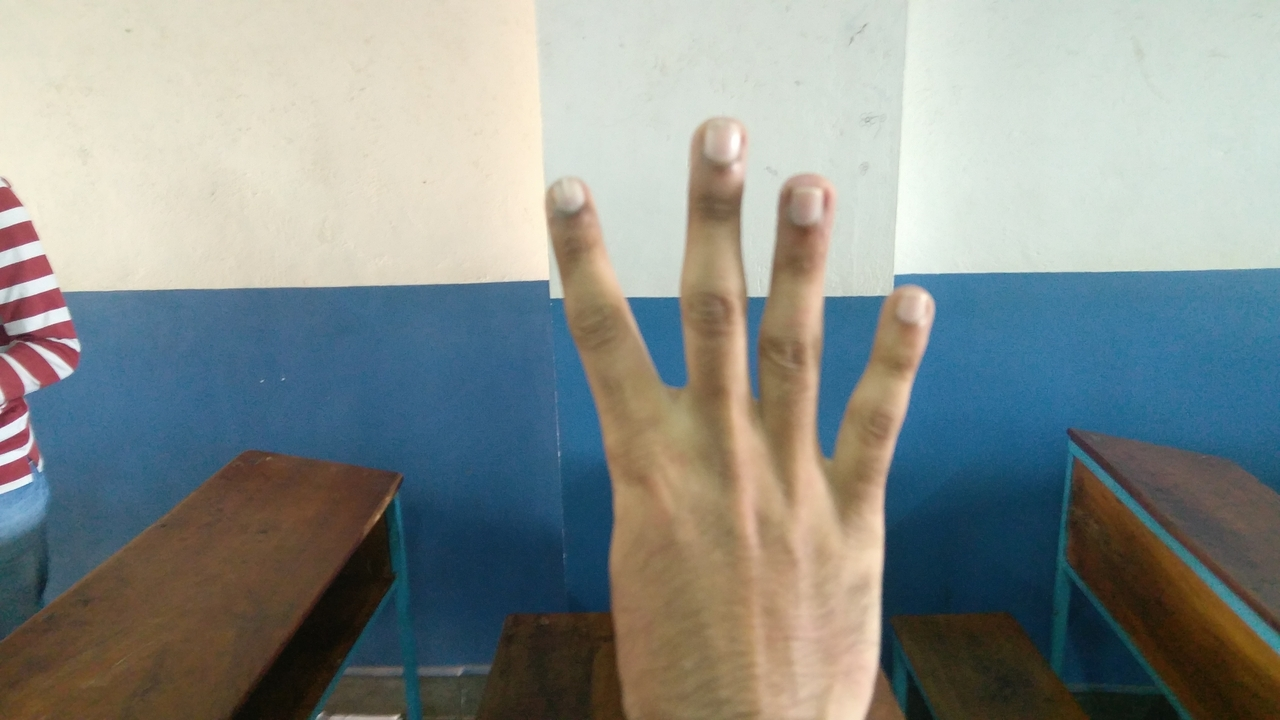fingertip: (876, 278, 948, 338), (772, 172, 842, 232), (686, 118, 752, 180), (538, 172, 604, 230)
